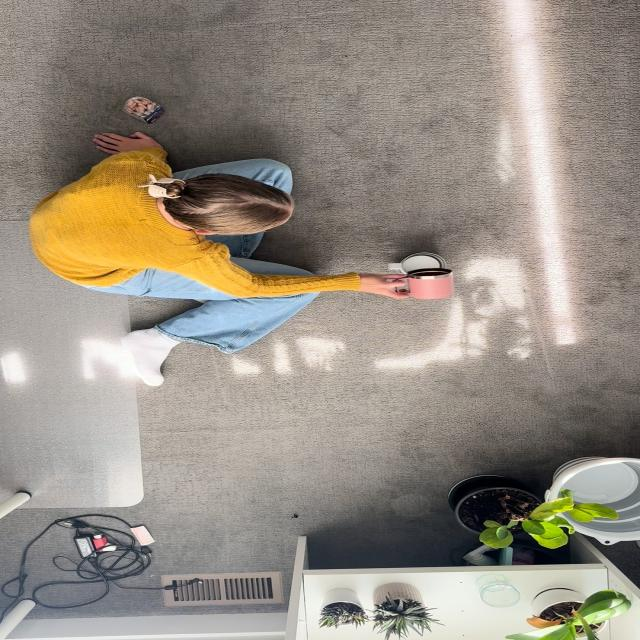IBC: (404, 269, 453, 299), (388, 253, 445, 273)
